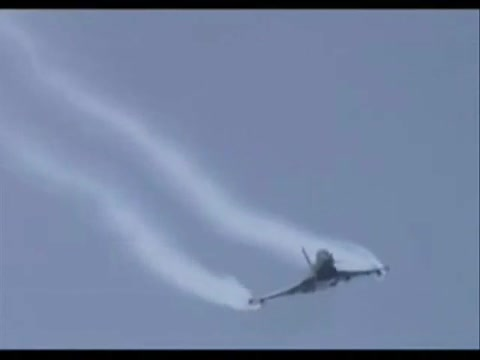aeroplane: (249, 248, 389, 308)
